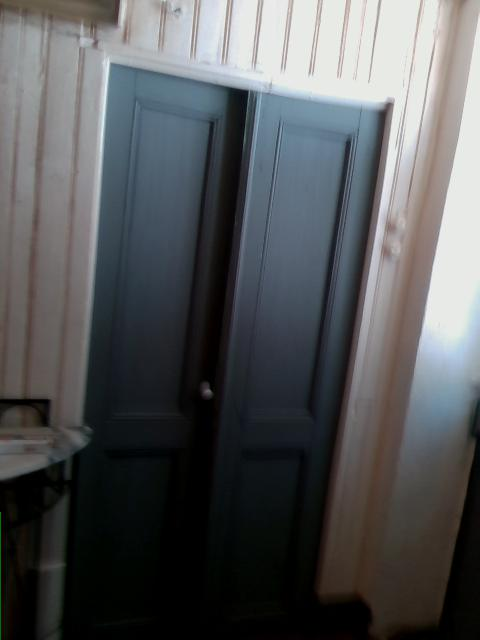closed_door: (56, 47, 393, 639)
